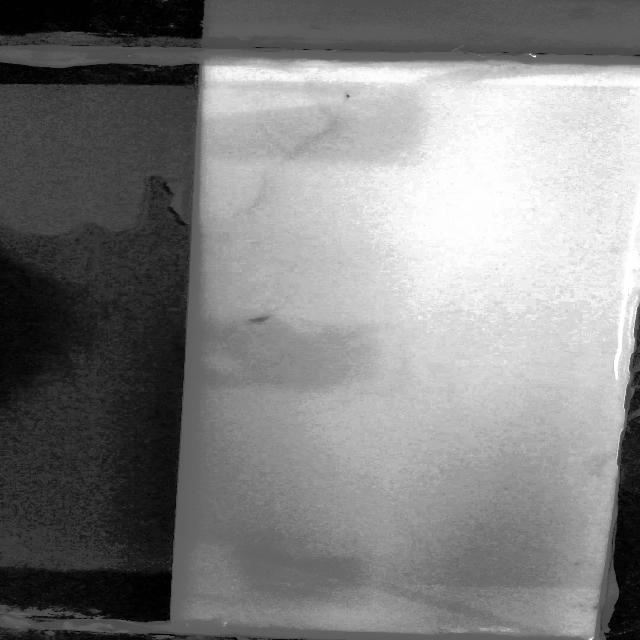shrimp: (243, 309, 285, 327), (341, 91, 362, 102)
